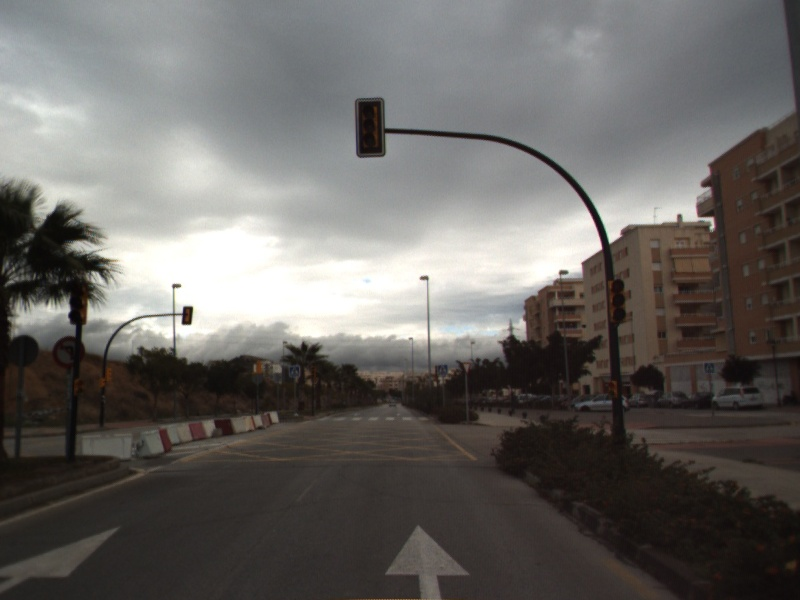STRAIGHT: (1, 525, 122, 596), (383, 522, 472, 600)
